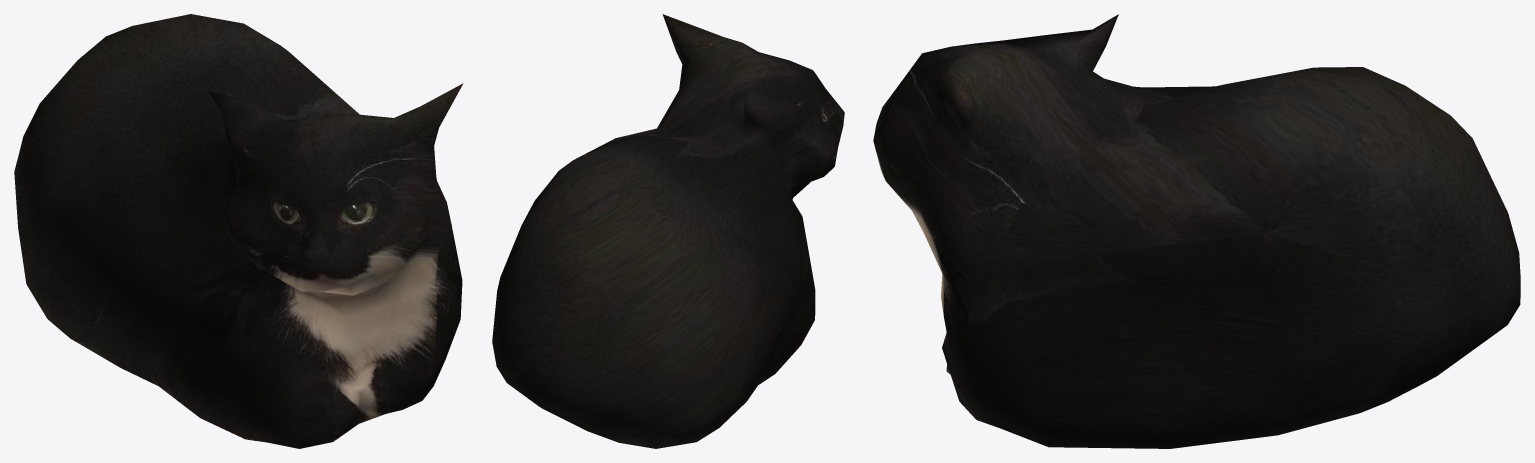
The model's file is Maxwell.obj.
3 views of the same model, side by side, from view 1: azimuth 30°, elevation 25°; view 2: azimuth 150°, elevation 25°; view 3: azimuth 270°, elevation 25° (orthographic). The views are drawn at different scales.
Visible parts, largest first — view 1: Maxwell; view 2: Maxwell; view 3: Maxwell.
Part boxes in pixels (bbox=[...]): Maxwell: bbox=[14, 14, 463, 448]; Maxwell: bbox=[492, 14, 844, 448]; Maxwell: bbox=[873, 14, 1520, 448].
Size of the model in its own units: 2.06 by 2.45 by 3.87.
1 material, 1 textured.
